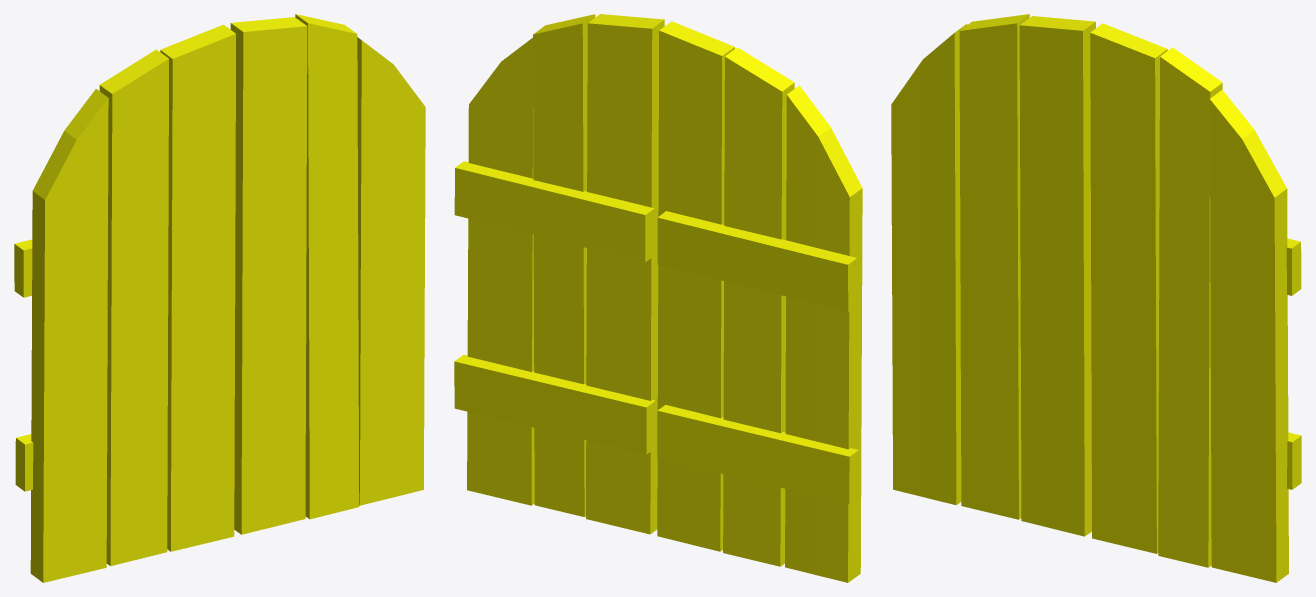
Rendered from windowshutters-wide-round-closed.glb.
3 renders of one model, left to right at view 1: azimuth 30°, elevation 25°; view 2: azimuth 150°, elevation 25°; view 3: azimuth 330°, elevation 25°, orthographic.
Parts seen in each view (by area): view 1: WindowShutters_Wide_Round_Closed; view 2: WindowShutters_Wide_Round_Closed; view 3: WindowShutters_Wide_Round_Closed.
Boxes of the visible parts, x1,y1,x2,y2 form: WindowShutters_Wide_Round_Closed: [14, 14, 425, 582]; WindowShutters_Wide_Round_Closed: [454, 14, 862, 582]; WindowShutters_Wide_Round_Closed: [891, 14, 1301, 582].
Size of the model in its own units: 1.35 by 1.65 by 0.1358.
Materials: 1 (1 with a texture image).
